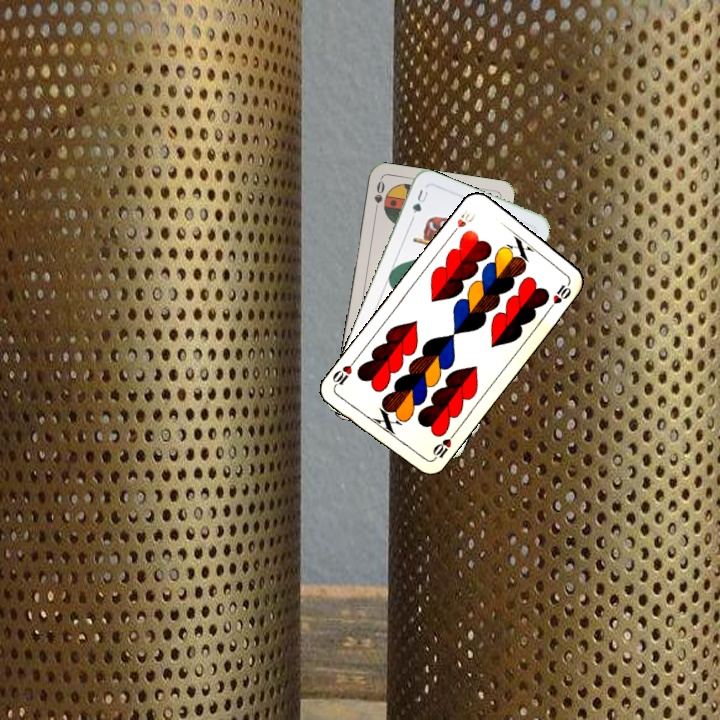GU: (407, 185, 431, 222)
H10: (446, 205, 478, 239), (428, 429, 458, 463)
SO: (370, 177, 387, 217)
